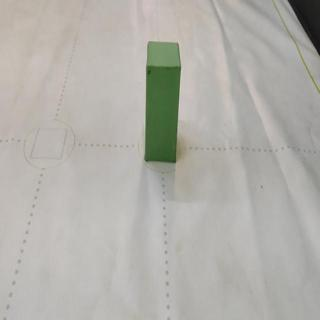greenbox: (144, 39, 181, 165)
